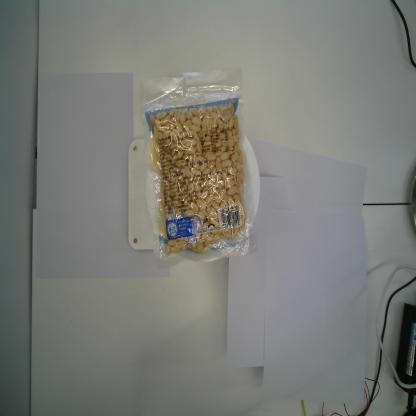Dried Fruit: (138, 66, 258, 270)
